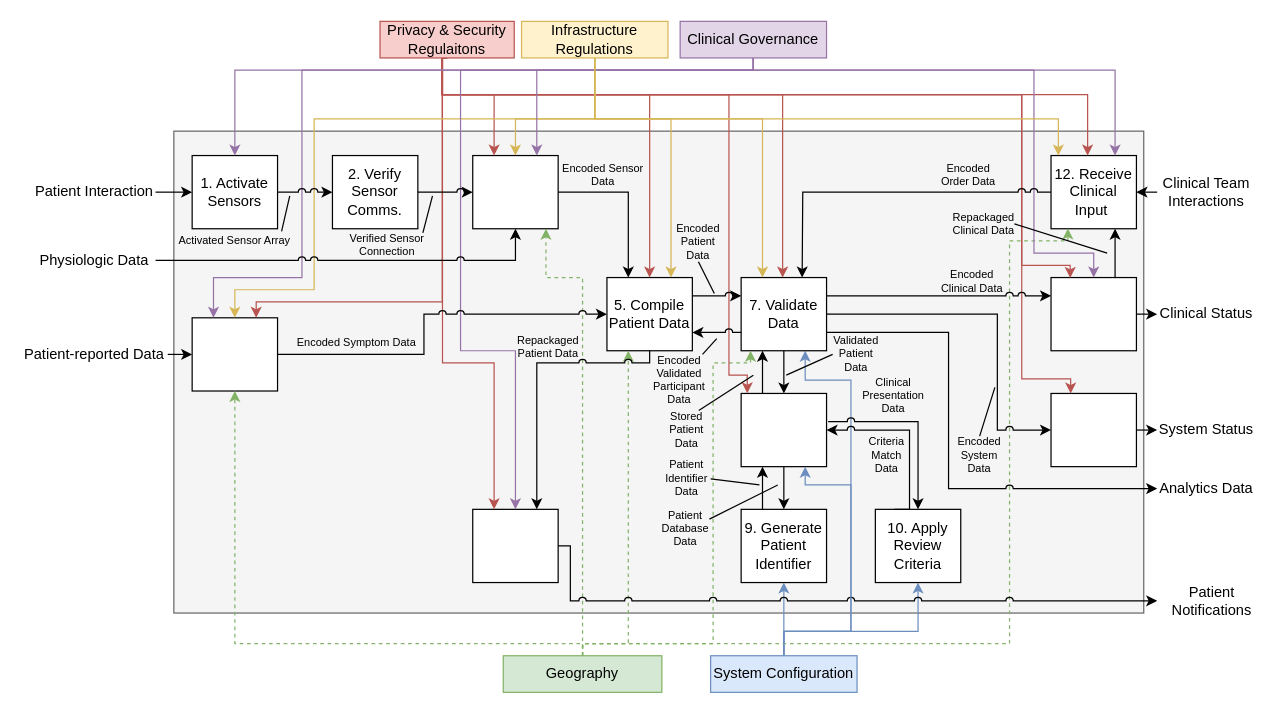
Image size: 1287x714. Some labels were removed from this diagram. Each missing label, with the centre of its shape:
"11. Display Clinical Data" belongs at point (1093, 313).
"13. Display System Data" belongs at point (1093, 429).
"3. Record Clinical Data" belongs at point (515, 191).
"4. Record Manual Symptoms" belongs at point (234, 354).
"6. Display Patient Data" belongs at point (515, 545).
"8. Store Data" belongs at point (783, 429).
